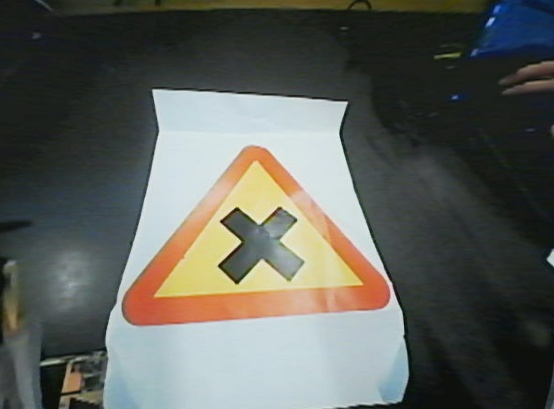junction: (116, 131, 405, 343)
